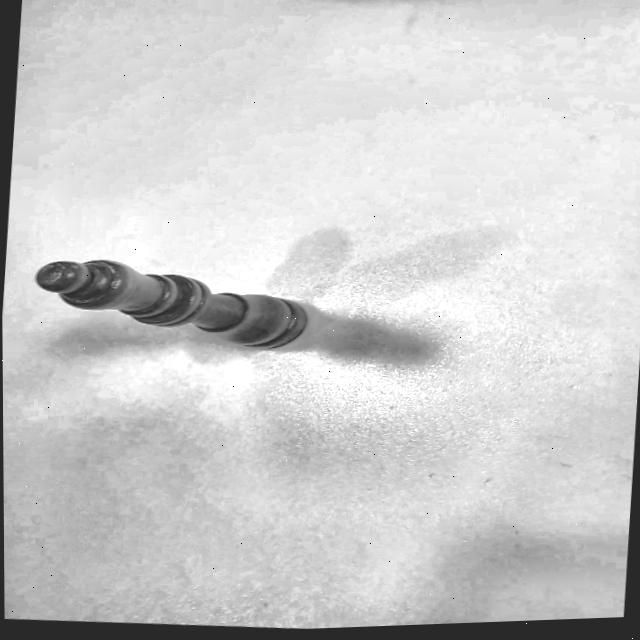black-queen: (10, 230, 341, 377)
